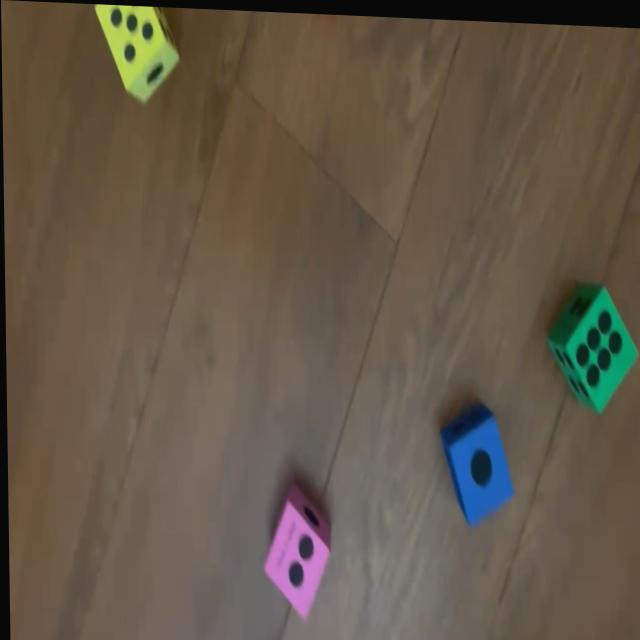cube: (548, 278, 638, 410), (438, 399, 513, 523)
